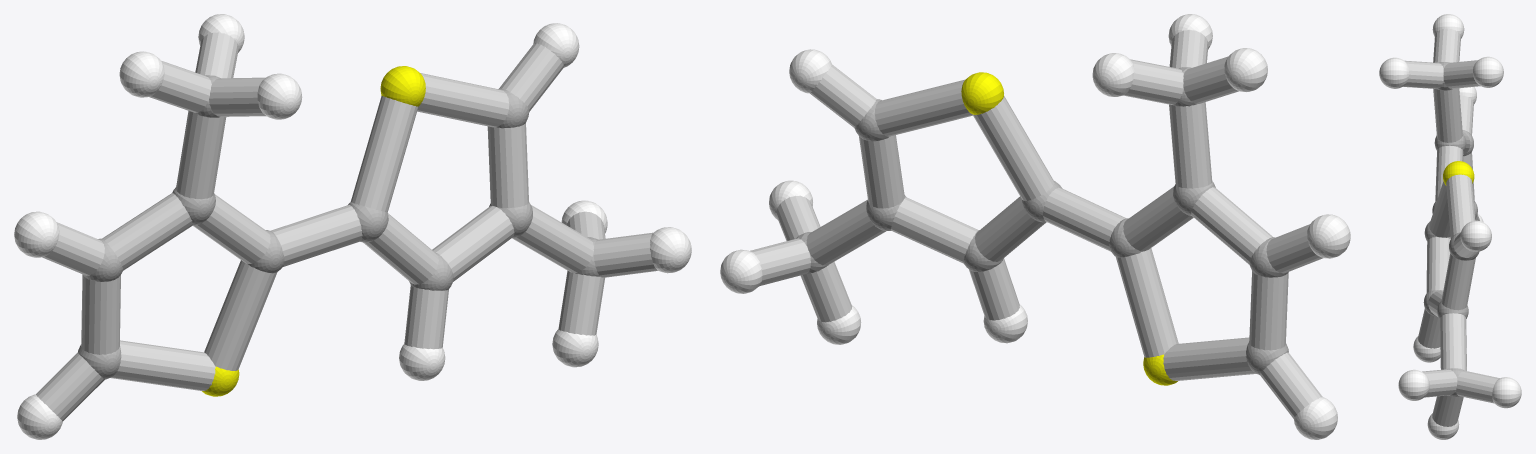
File: Methylthiophene_Phi_15_Theta_350_Methylthiophene.glb
3 renders of one model, left to right at view 1: azimuth 30°, elevation 25°; view 2: azimuth 150°, elevation 25°; view 3: azimuth 270°, elevation 25°, orthographic. The views are drawn at different scales.
Visible parts, largest first — view 1: grp7965, grp3621, grp1, grp7241; view 2: grp7965, grp3621, grp1, grp7241; view 3: grp7965, grp3621, grp1, grp7241.
Boxes of the visible parts, box(x1,y1,x2,y2) form: grp7965: box(36, 32, 657, 421); grp3621: box(14, 14, 691, 439); grp1: box(78, 75, 599, 379); grp7241: box(202, 66, 425, 396); grp7965: box(750, 29, 1323, 418); grp3621: box(720, 14, 1350, 439); grp1: box(796, 67, 1288, 374); grp7241: box(961, 72, 1177, 385); grp7965: box(1403, 28, 1499, 426); grp3621: box(1379, 14, 1521, 439); grp1: box(1423, 62, 1479, 396); grp7241: box(1443, 161, 1474, 185).
Bounding box in the file's own units: 9.51 × 5.9 × 2.71.
